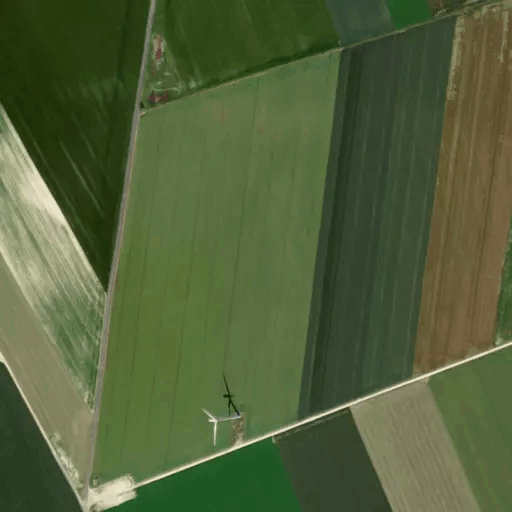wt: (197, 374, 256, 455)
